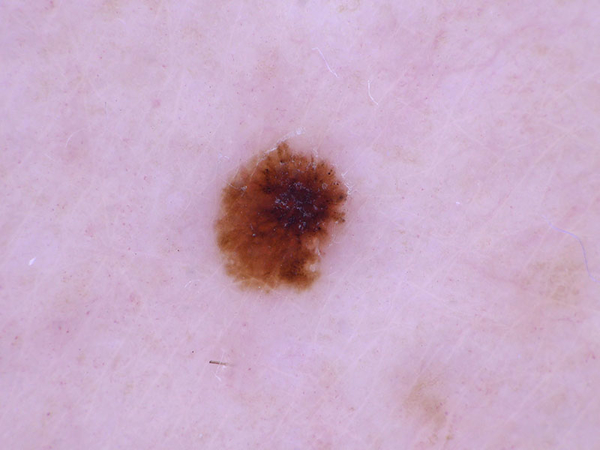Color changes: (256, 213, 294, 248)
